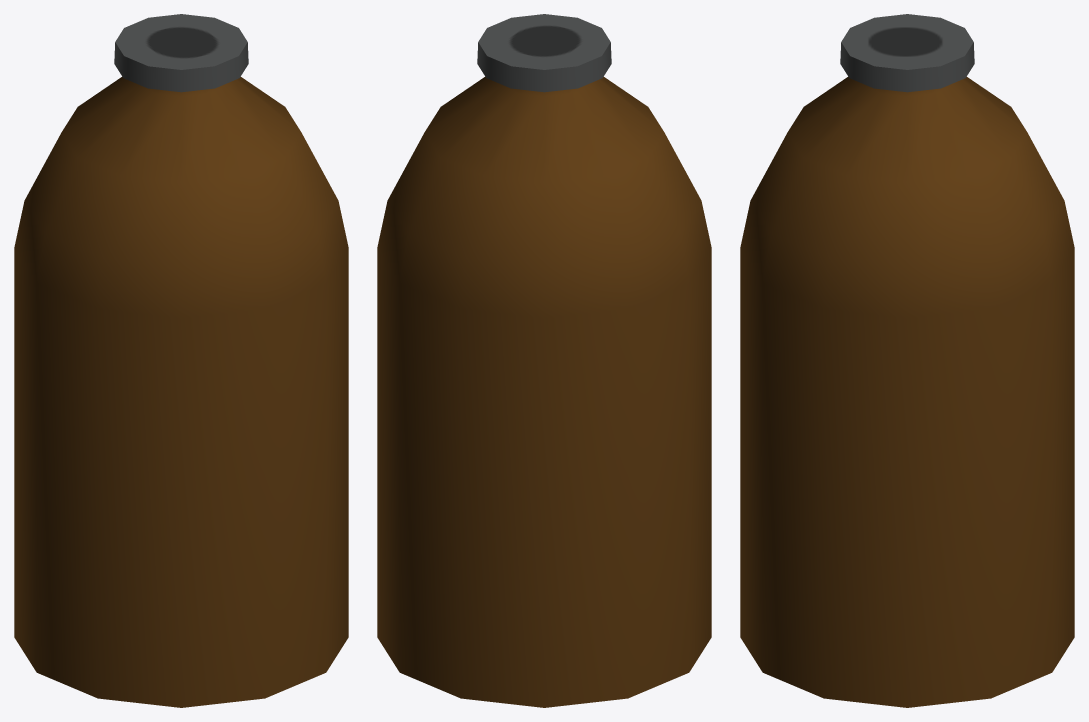
Rendered from vial4.FBX.
3 views of the same model, side by side, from view 1: azimuth 30°, elevation 25°; view 2: azimuth 150°, elevation 25°; view 3: azimuth 270°, elevation 25° (orthographic).
Visible parts, largest first — view 1: vial4; view 2: vial4; view 3: vial4.
Boxes of the visible parts, bbox=[...] form: vial4: bbox=[14, 14, 348, 707]; vial4: bbox=[377, 14, 711, 707]; vial4: bbox=[740, 14, 1074, 707].
Bounding box in the file's own units: 3.4 × 3.4 × 6.68.
